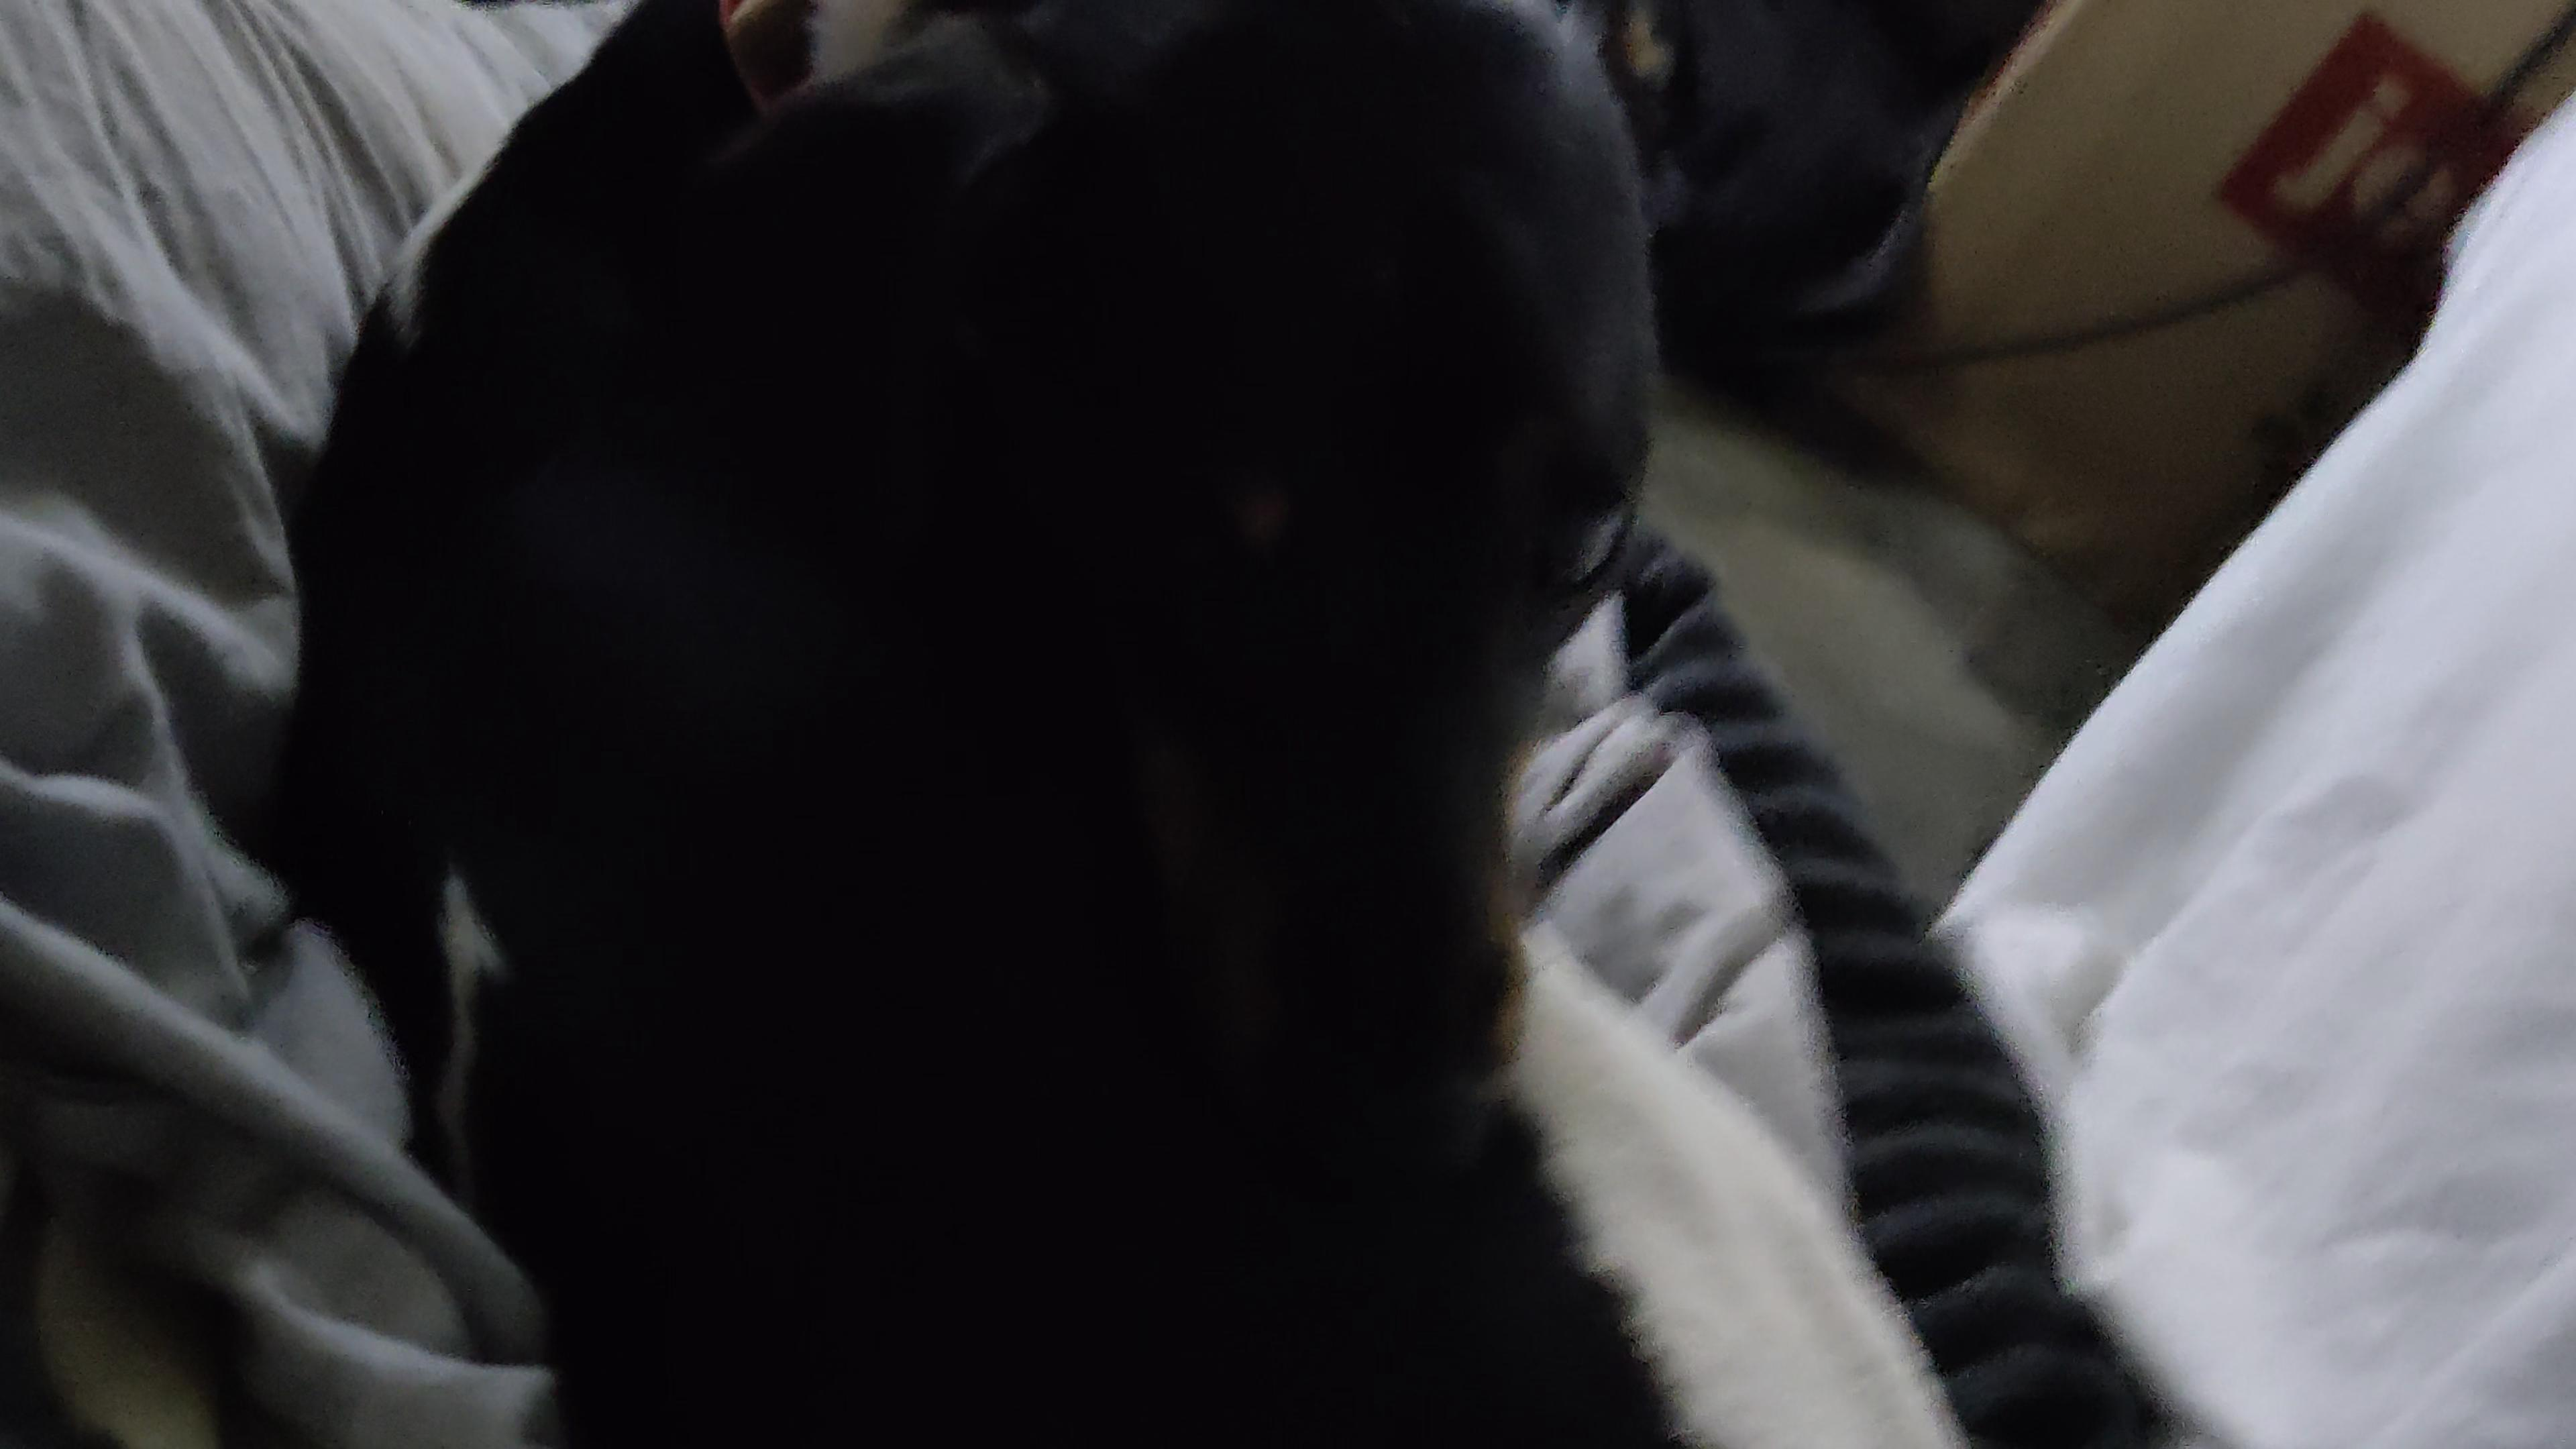Dog: (274, 0, 1967, 1449)
